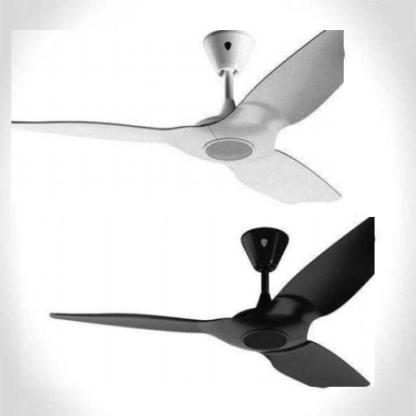ceiling-fan: (21, 217, 375, 387), (11, 30, 344, 203)
